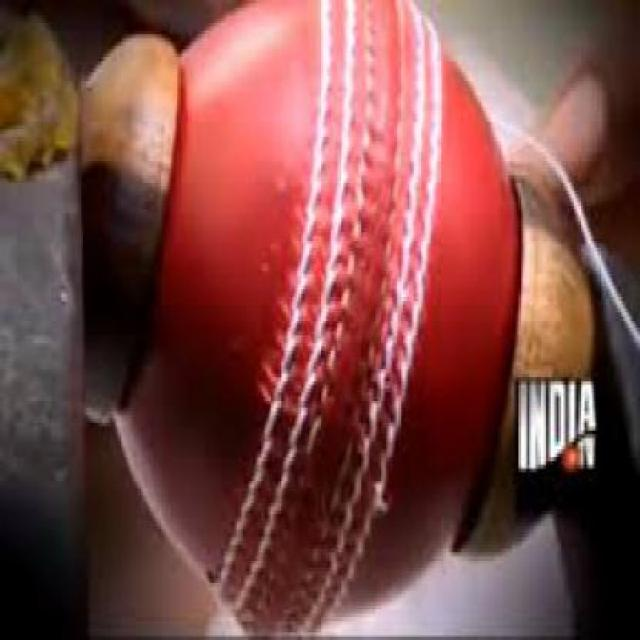ball: (117, 0, 522, 640)
